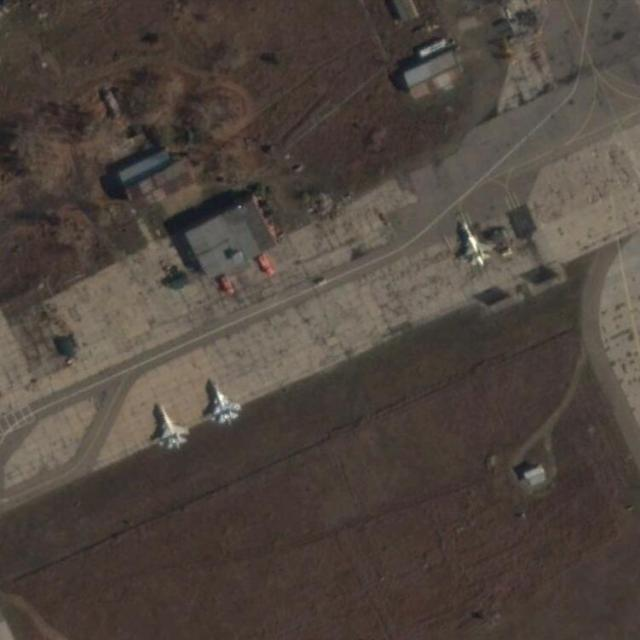fighter jet: (451, 217, 493, 268), (148, 398, 188, 451), (200, 376, 240, 424)
